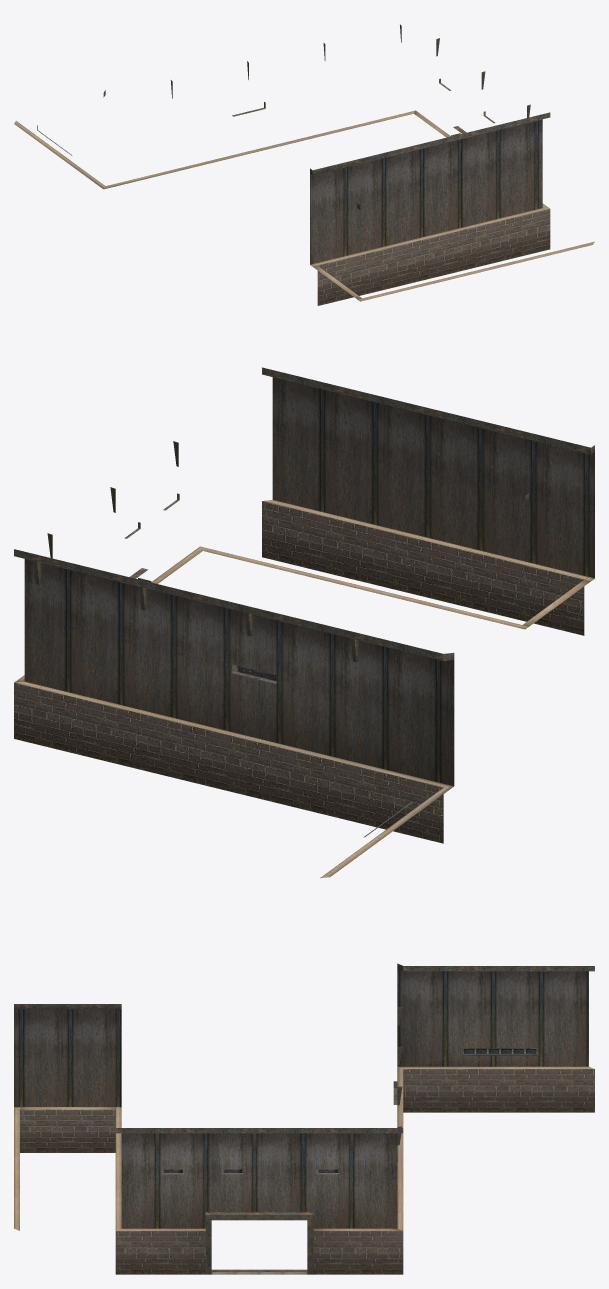
Rendered from M11Z2_SCUDHouse01_A.glb.
The picture shows the model from 3 angles, top to bottom: view 1: azimuth 30°, elevation 25°; view 2: azimuth 150°, elevation 25°; view 3: azimuth 270°, elevation 25°; orthographic projection. The views are drawn at different scales.
Visible parts, largest first — view 1: M11Z2_SCUDHOUSE01_A; view 2: M11Z2_SCUDHOUSE01_A; view 3: M11Z2_SCUDHOUSE01_A.
Boxes of the visible parts, bbox=[...] form: M11Z2_SCUDHOUSE01_A: bbox=[14, 24, 594, 305]; M11Z2_SCUDHOUSE01_A: bbox=[14, 367, 594, 878]; M11Z2_SCUDHOUSE01_A: bbox=[14, 963, 594, 1274].
Size of the model in its own units: 32.59 by 13.51 by 48.5.
6 materials, 6 textured.
